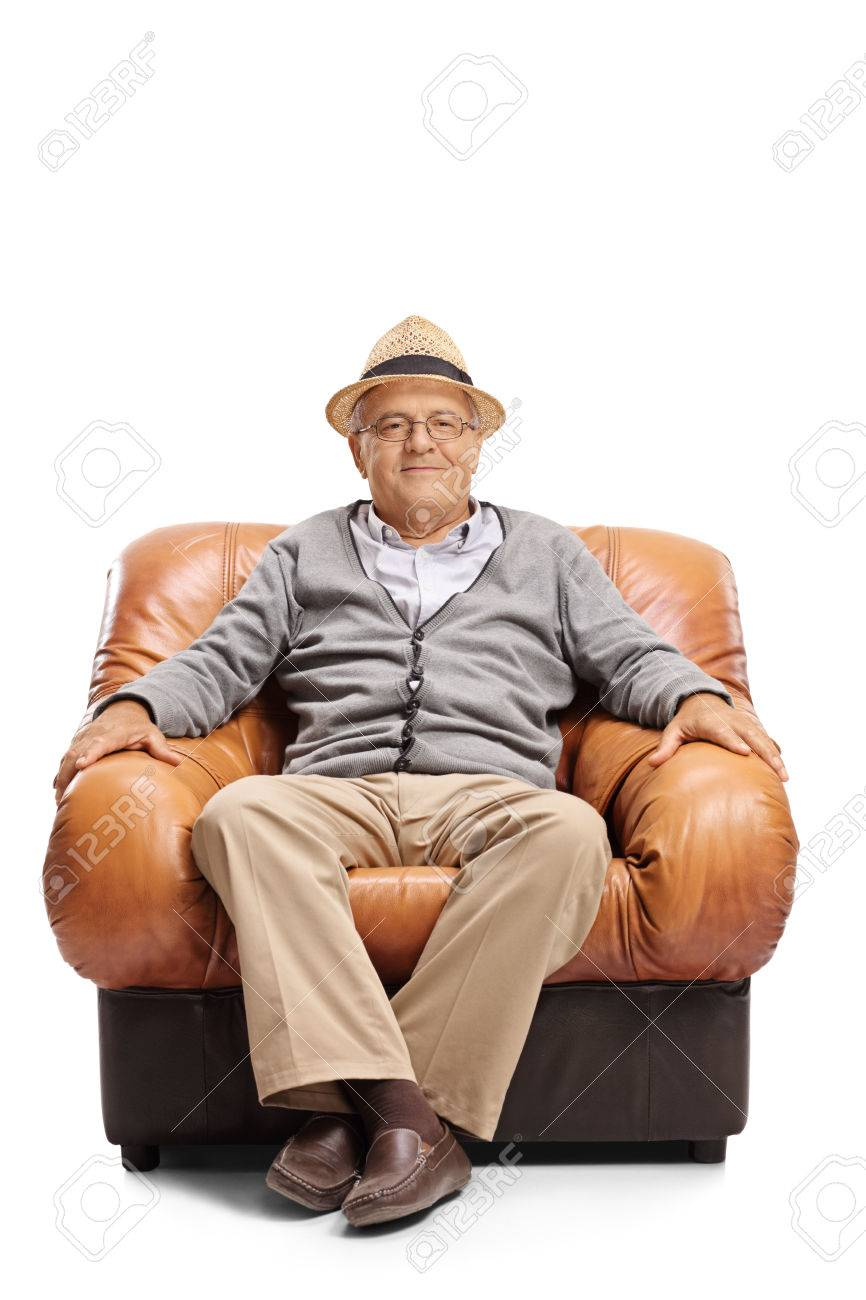chairs: (21, 529, 803, 1180)
